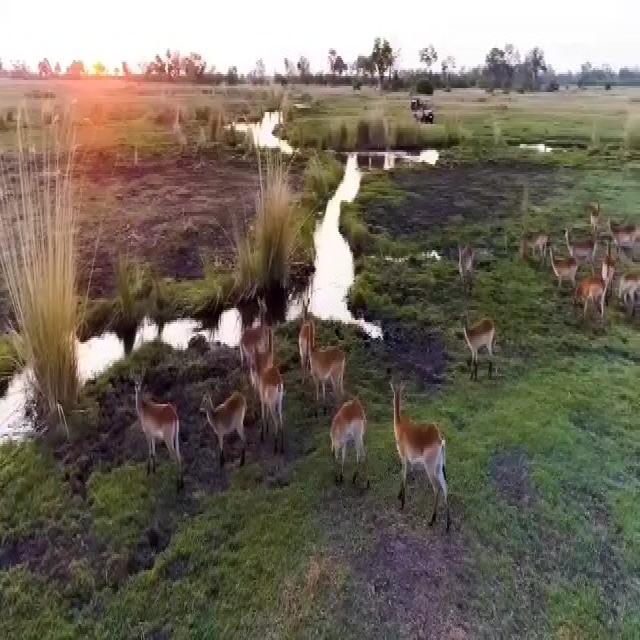Deer: (387, 388, 455, 530), (135, 384, 191, 490), (328, 402, 376, 503), (202, 393, 250, 477), (455, 316, 508, 388), (307, 335, 357, 408), (254, 356, 287, 463), (236, 308, 278, 360), (550, 248, 582, 296), (456, 239, 480, 298), (580, 276, 608, 326), (296, 304, 317, 370), (562, 220, 591, 264), (525, 227, 550, 270), (610, 220, 636, 259), (622, 269, 640, 311), (588, 203, 602, 234)
